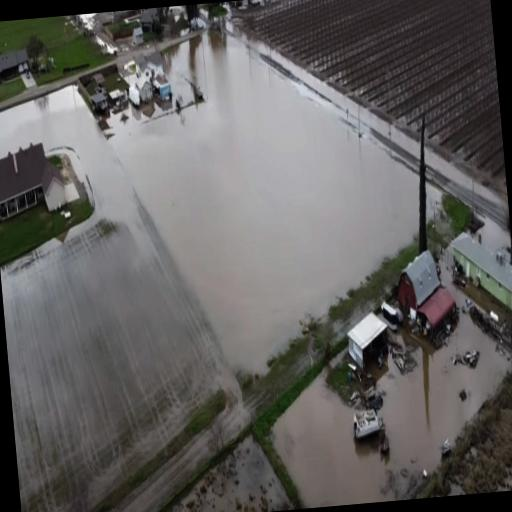flood: (0, 29, 419, 512), (274, 293, 509, 508), (253, 39, 420, 168), (427, 148, 507, 227)
house: (395, 242, 461, 348), (452, 222, 512, 324), (0, 133, 52, 224), (346, 310, 394, 382), (41, 160, 69, 216), (0, 45, 36, 85), (153, 70, 173, 102), (136, 74, 154, 108), (91, 90, 110, 120), (132, 26, 145, 50), (112, 88, 128, 106), (109, 10, 136, 18)
